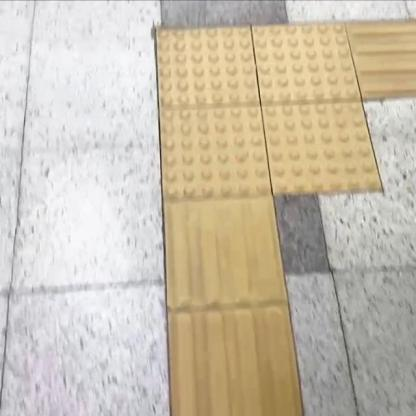podotacti: (134, 0, 397, 238), (163, 204, 302, 416)
